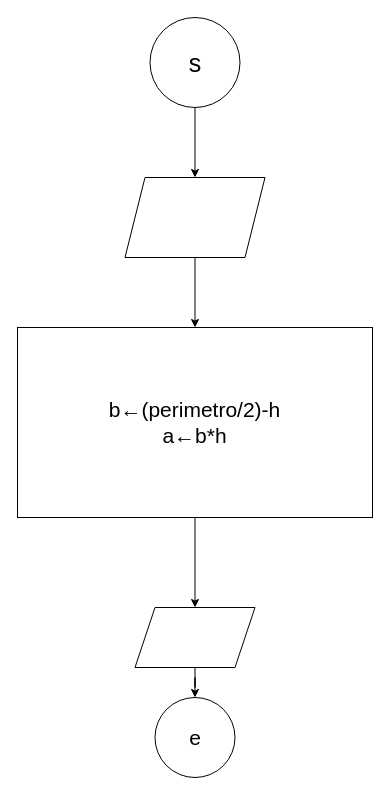
Image size: 390x795. Some labels were removed from this diagram. Each missing label, with the box of its shape:
leggi perimetro,h: (124, 176, 265, 258)
scrivi a: (134, 606, 255, 668)
